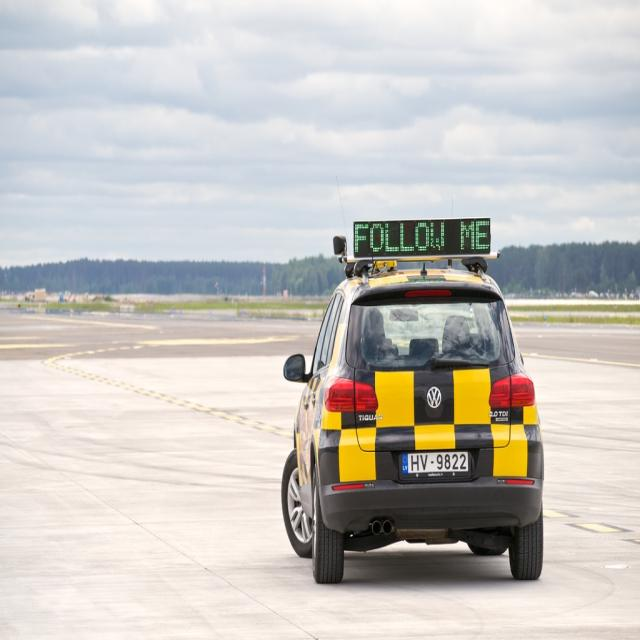car: (276, 218, 547, 582)
